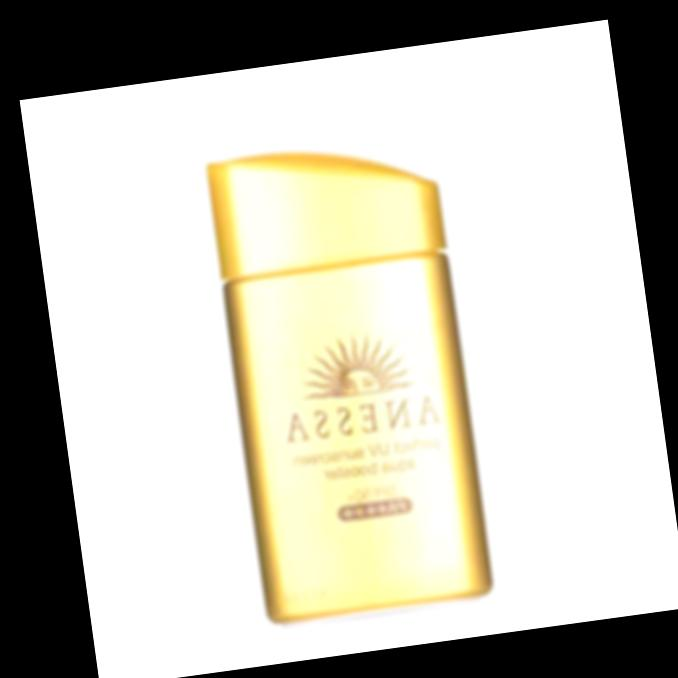cosmetic: (203, 129, 498, 622)
